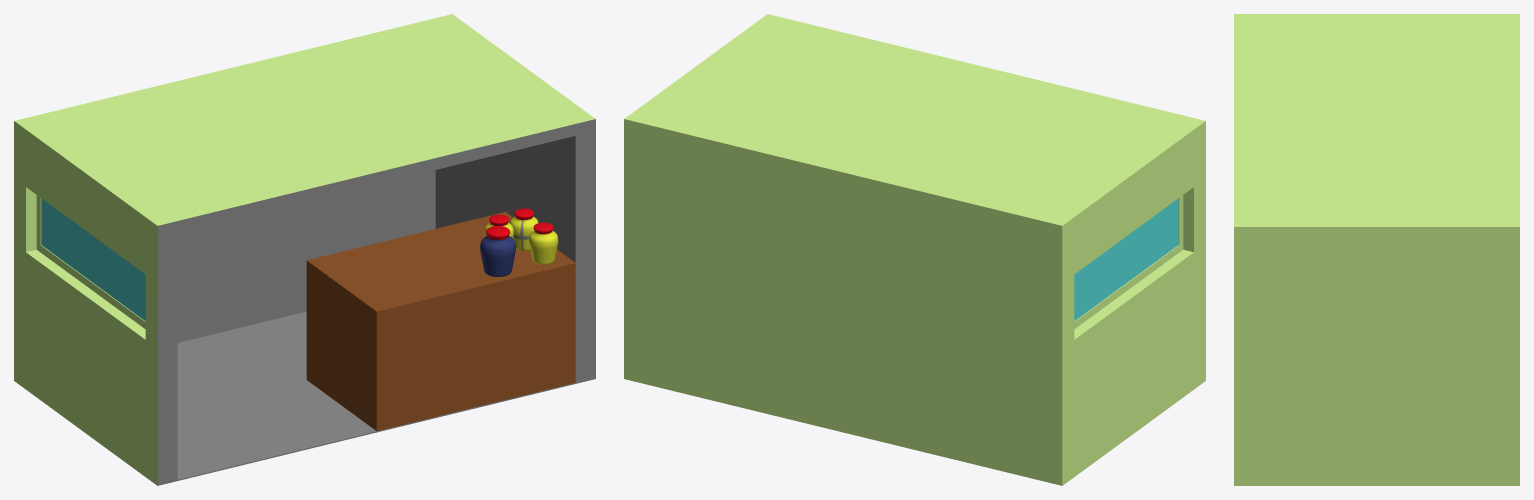
File: PettiKade.fbx
The picture shows the model from 3 angles, left to right: view 1: azimuth 30°, elevation 25°; view 2: azimuth 150°, elevation 25°; view 3: azimuth 270°, elevation 25°; orthographic projection.
Visible parts, largest first — view 1: Cube, Cylinder.002, Cylinder, Cylinder.001; view 2: Cube; view 3: Cube.
Boxes of the visible parts, x1=… form: Cube: x1=14, y1=14, x2=595, y2=485; Cylinder.002: x1=480, y1=226, x2=515, y2=276; Cylinder: x1=529, y1=222, x2=558, y2=264; Cylinder.001: x1=510, y1=208, x2=538, y2=250; Cube: x1=624, y1=14, x2=1205, y2=485; Cube: x1=1234, y1=14, x2=1519, y2=485.
Size of the model in its own units: 1058 by 600 by 600.
